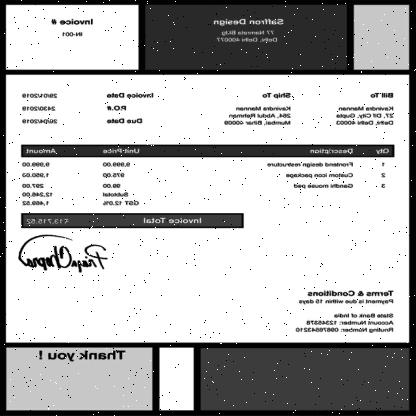Paragraph: (21, 90, 155, 126), (295, 289, 396, 334), (221, 91, 294, 127), (334, 91, 396, 127), (211, 18, 286, 44), (21, 191, 140, 207), (24, 216, 204, 225), (37, 350, 127, 362), (48, 16, 96, 38)
Table: (20, 144, 395, 190)
